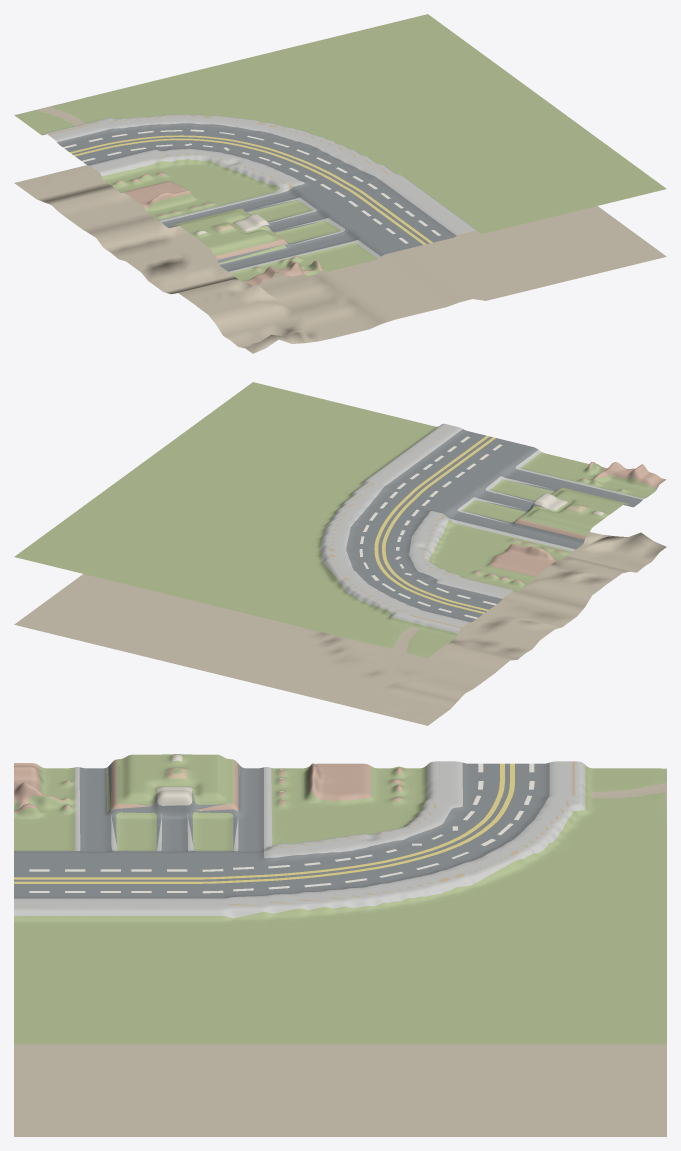
3 renders of one model, top to bottom at view 1: azimuth 30°, elevation 25°; view 2: azimuth 150°, elevation 25°; view 3: azimuth 270°, elevation 25°, orthographic. The views are drawn at different scales.
Parts seen in each view (by area): view 1: s_-4_-6__grass, s_-4_-6__soil, s_-4_-6__asphalt, s_-4_-6__stone_paving, s_-4_-6__brick_paving, s_-4_-6__yellow_marking, s_-4_-6__white_marking, s_-4_-6__timber_deck; view 2: s_-4_-6__grass, s_-4_-6__soil, s_-4_-6__asphalt, s_-4_-6__stone_paving, s_-4_-6__brick_paving, s_-4_-6__yellow_marking, s_-4_-6__white_marking, s_-4_-6__timber_deck; view 3: s_-4_-6__grass, s_-4_-6__soil, s_-4_-6__asphalt, s_-4_-6__stone_paving, s_-4_-6__brick_paving, s_-4_-6__yellow_marking, s_-4_-6__white_marking, s_-4_-6__timber_deck, s_-4_-6__paving.
Part boxes in pixels (x1=…): s_-4_-6__grass: x1=14, y1=14, x2=666, y2=281; s_-4_-6__soil: x1=14, y1=101, x2=666, y2=353; s_-4_-6__asphalt: x1=57, y1=123, x2=456, y2=271; s_-4_-6__stone_paving: x1=46, y1=114, x2=477, y2=272; s_-4_-6__brick_paving: x1=115, y1=172, x2=323, y2=286; s_-4_-6__yellow_marking: x1=70, y1=135, x2=432, y2=244; s_-4_-6__white_marking: x1=63, y1=129, x2=440, y2=243; s_-4_-6__timber_deck: x1=48, y1=116, x2=469, y2=231; s_-4_-6__grass: x1=14, y1=382, x2=657, y2=657; s_-4_-6__soil: x1=14, y1=532, x2=666, y2=725; s_-4_-6__asphalt: x1=346, y1=429, x2=642, y2=622; s_-4_-6__stone_paving: x1=320, y1=423, x2=643, y2=633; s_-4_-6__brick_paving: x1=474, y1=462, x2=666, y2=583; s_-4_-6__yellow_marking: x1=374, y1=435, x2=495, y2=613; s_-4_-6__white_marking: x1=359, y1=436, x2=502, y2=618; s_-4_-6__timber_deck: x1=328, y1=425, x2=586, y2=628; s_-4_-6__grass: x1=14, y1=754, x2=666, y2=1044; s_-4_-6__soil: x1=14, y1=769, x2=666, y2=1136; s_-4_-6__asphalt: x1=14, y1=762, x2=549, y2=898; s_-4_-6__stone_paving: x1=14, y1=761, x2=585, y2=917; s_-4_-6__brick_paving: x1=14, y1=759, x2=401, y2=813; s_-4_-6__yellow_marking: x1=14, y1=763, x2=514, y2=883; s_-4_-6__white_marking: x1=29, y1=763, x2=534, y2=893; s_-4_-6__timber_deck: x1=14, y1=761, x2=575, y2=906; s_-4_-6__paving: x1=157, y1=754, x2=192, y2=805.
Bounding box in the file's own units: 128 × 24.07 × 128.
